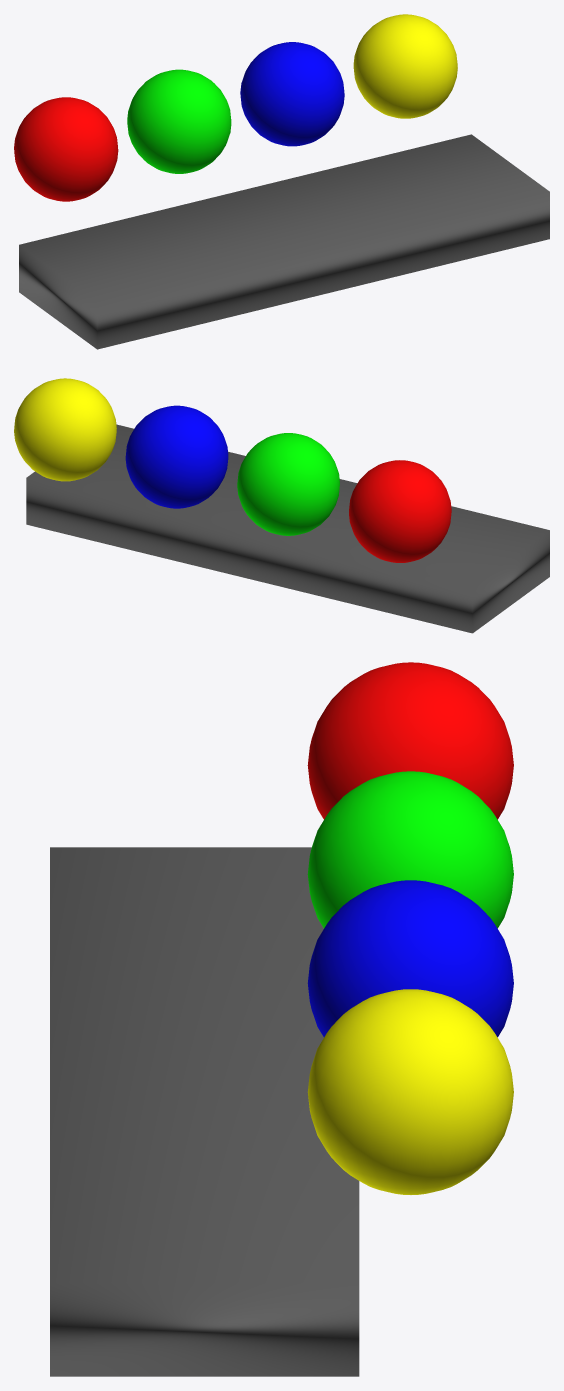
File: remote_control.glb
The picture shows the model from 3 angles, top to bottom: view 1: azimuth 30°, elevation 25°; view 2: azimuth 150°, elevation 25°; view 3: azimuth 270°, elevation 25°; orthographic projection. The views are drawn at different scales.
Parts seen in each view (by area): view 1: Cube; view 2: Cube; view 3: Cube.
Part boxes in pixels (x1,y1,x2,y2): Cube: (14,14,549,349); Cube: (14,378,549,633); Cube: (50,662,513,1376).
Bounding box in the file's own units: 0.06 × 0.021 × 0.027.
